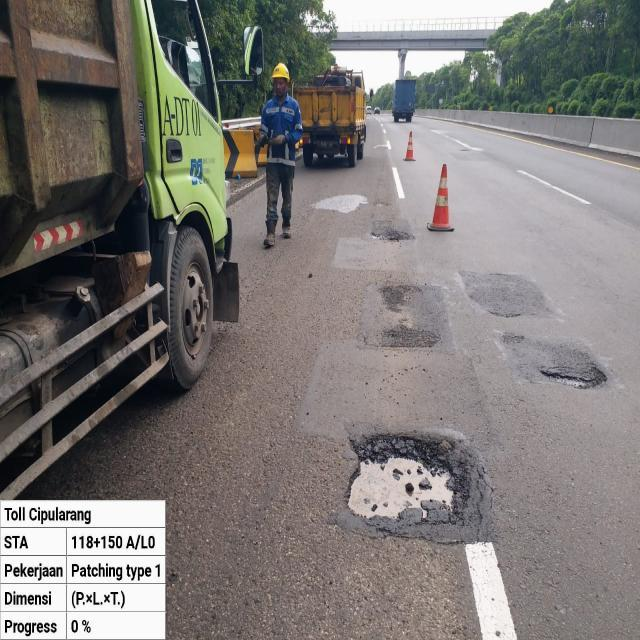Buraco: (341, 430, 487, 530), (538, 364, 610, 392), (369, 231, 388, 241)
